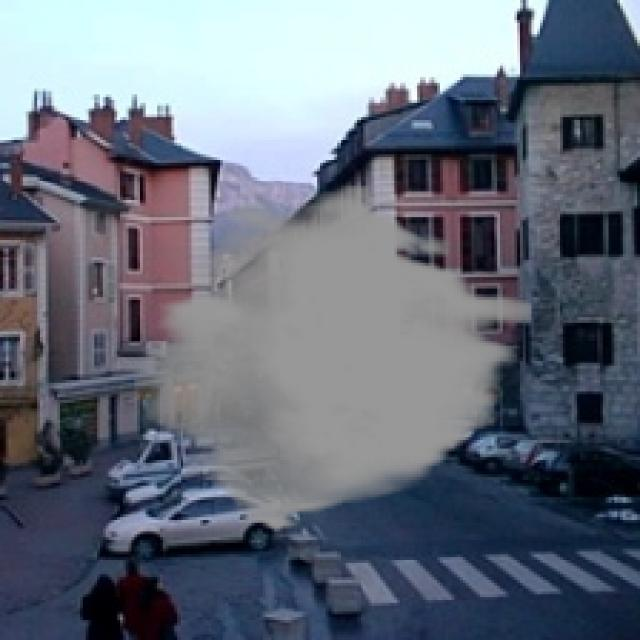smoke: (134, 183, 532, 531)
